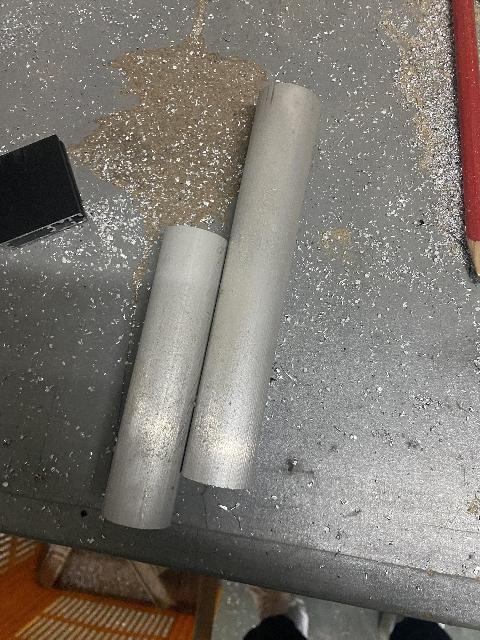Metal: (187, 67, 340, 505), (103, 208, 202, 537), (0, 127, 114, 263)
